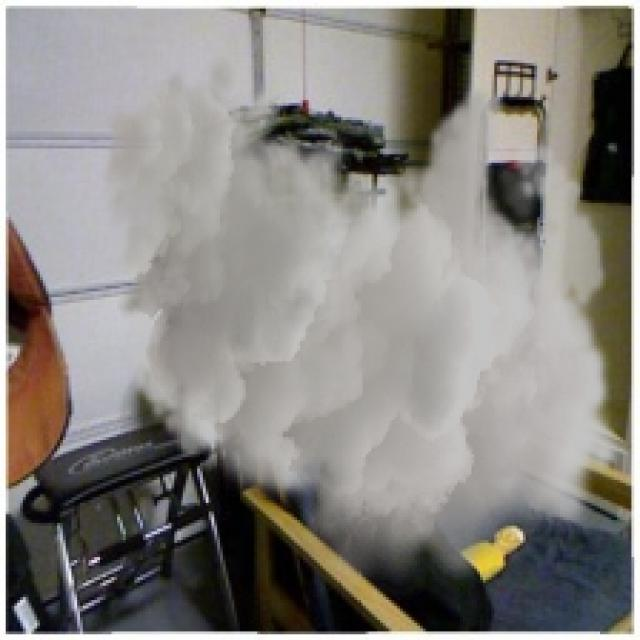smoke: (100, 51, 623, 600)
